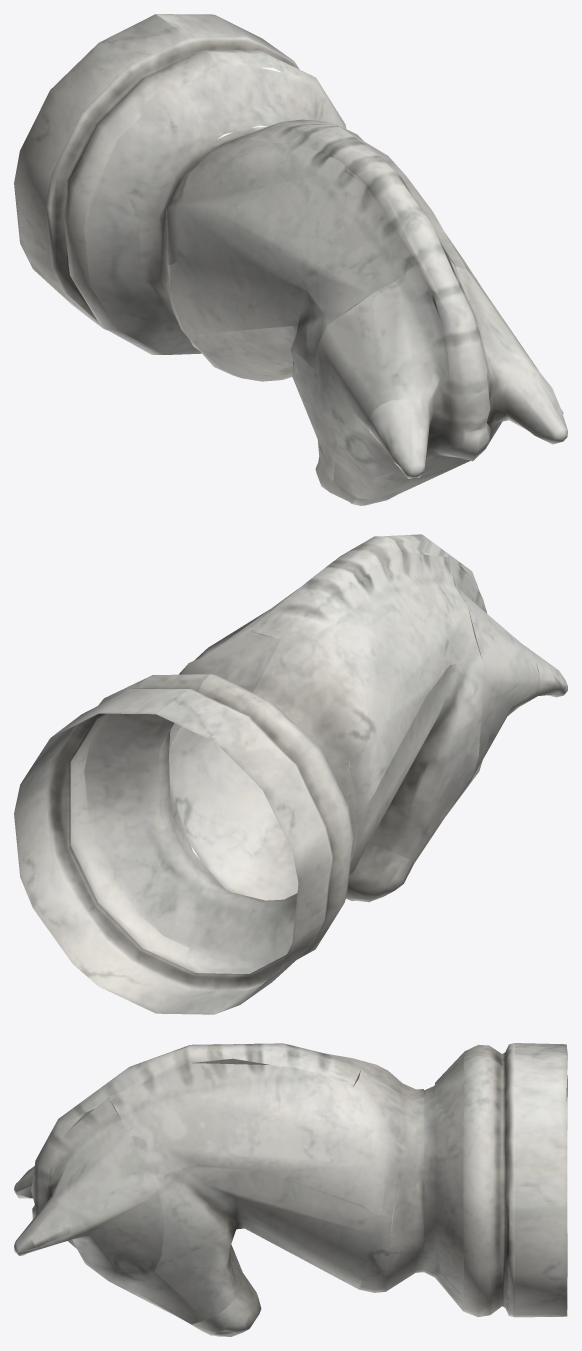
Rendered from Honse.glb.
The picture shows the model from 3 angles, top to bottom: view 1: azimuth 30°, elevation 25°; view 2: azimuth 150°, elevation 25°; view 3: azimuth 270°, elevation 25°; orthographic projection. The views are drawn at different scales.
Parts seen in each view (by area): view 1: Honse; view 2: Honse; view 3: Honse.
Part boxes in pixels (x1=…): Honse: x1=14, y1=14, x2=567, y2=505; Honse: x1=14, y1=534, x2=567, y2=1014; Honse: x1=14, y1=1043, x2=567, y2=1336.
Bounding box in the file's own units: 0.4175 × 0.4851 × 0.8483.
1 material, 1 textured.
